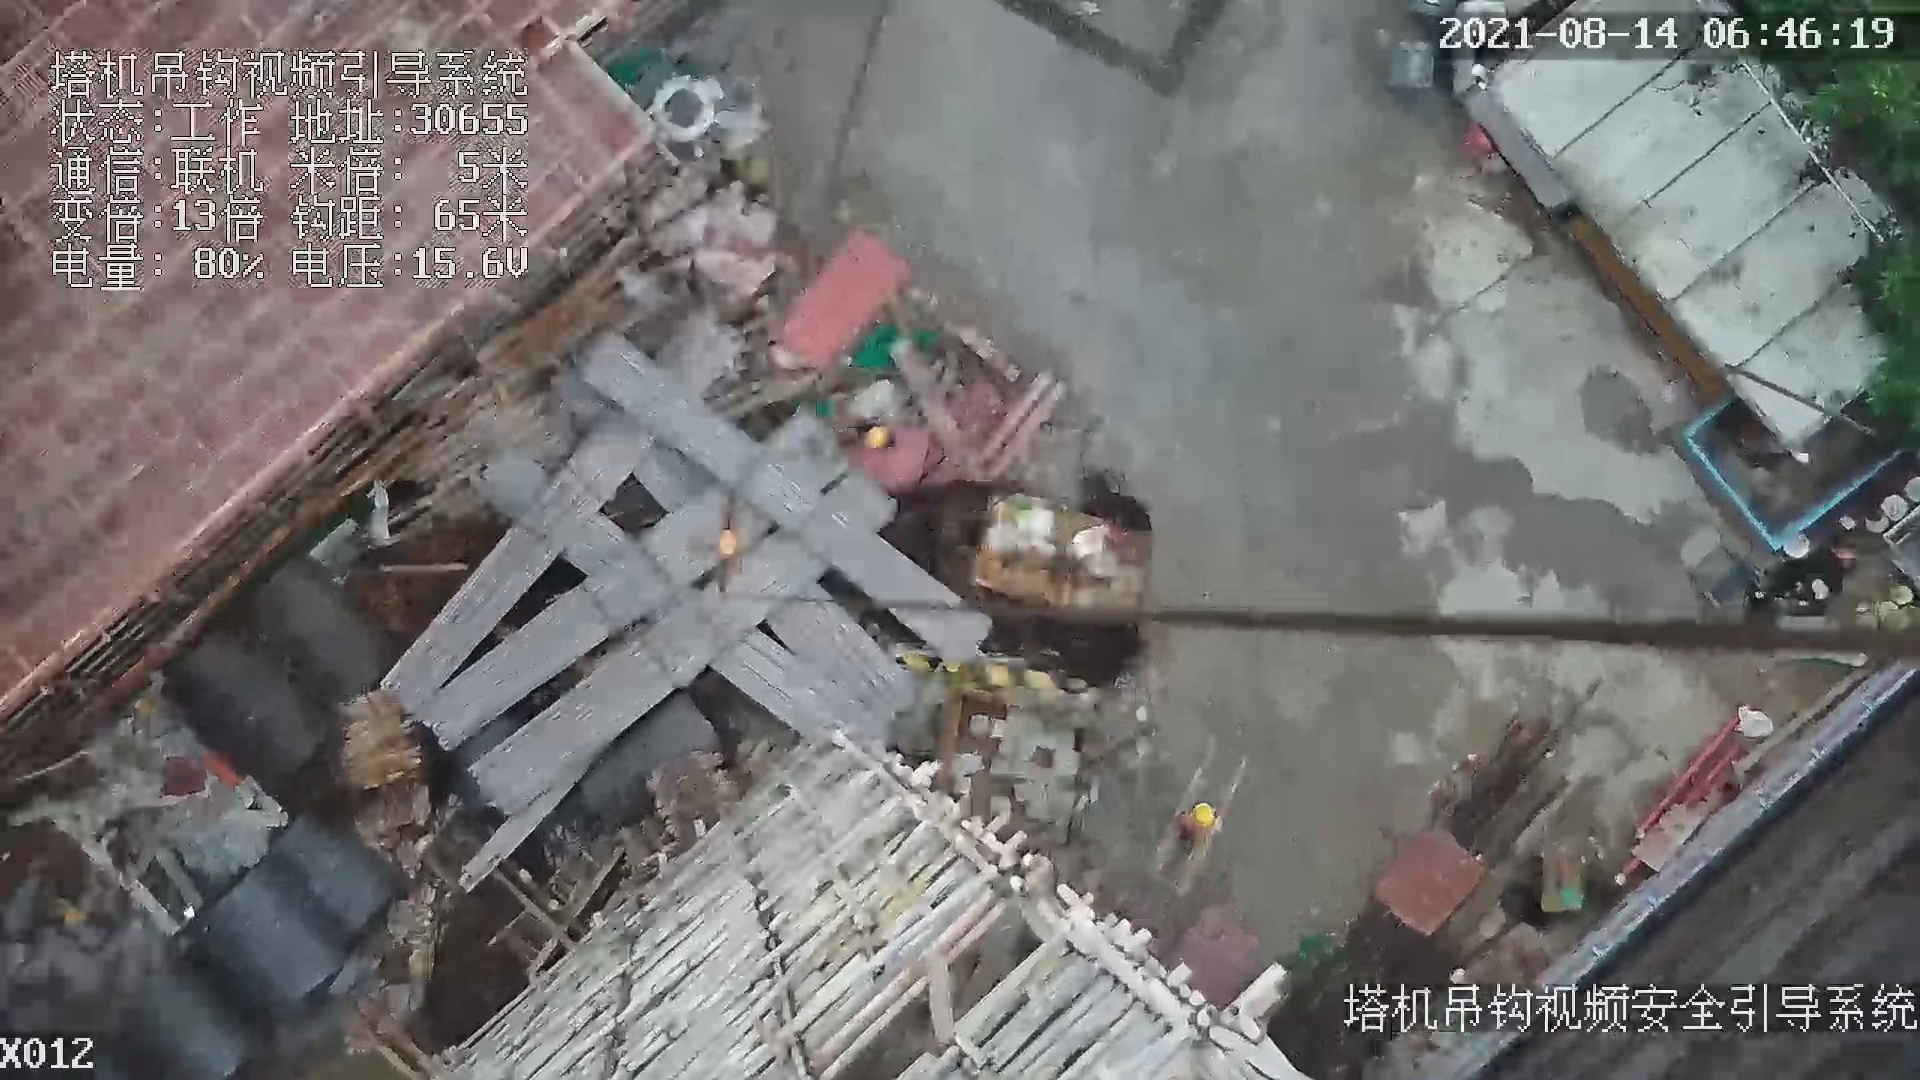helmet: (1192, 798, 1215, 828), (867, 427, 889, 453)
hook: (717, 504, 746, 596)
hopper: (1674, 390, 1888, 548)
person: (1178, 799, 1215, 859), (854, 419, 900, 457)
